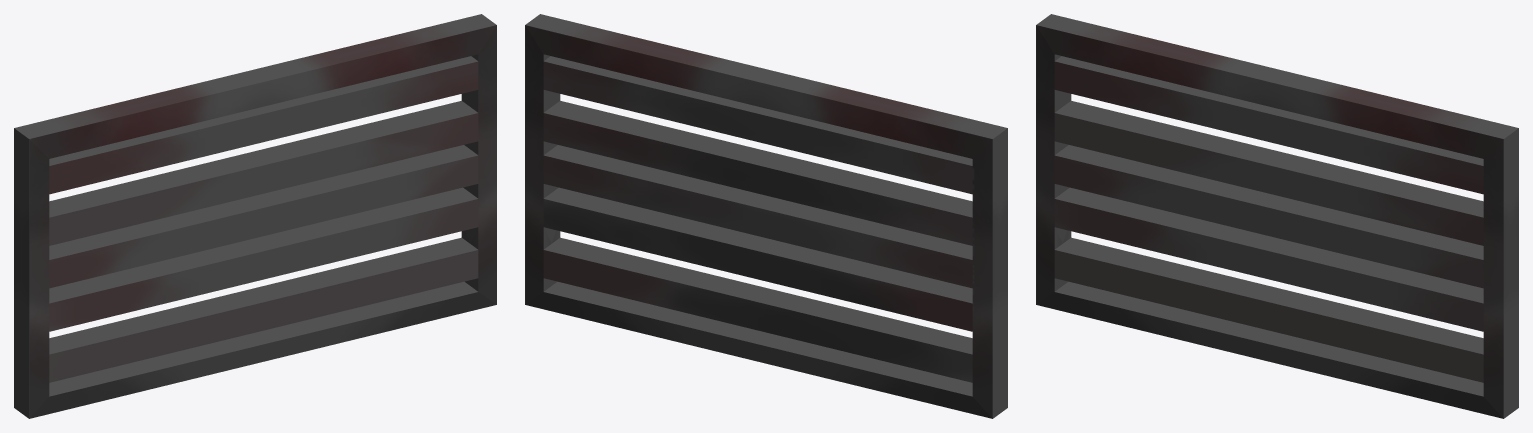
Rendered from Vent.glb.
The picture shows the model from 3 angles, left to right: view 1: azimuth 30°, elevation 25°; view 2: azimuth 150°, elevation 25°; view 3: azimuth 330°, elevation 25°; orthographic projection.
Visible parts, largest first — view 1: Cube; view 2: Cube; view 3: Cube.
Boxes of the visible parts, x1,y1,x2,y2 form: Cube: (14,14,496,418); Cube: (525,14,1007,418); Cube: (1036,14,1518,418).
Bounding box in the file's own units: 1.49 × 0.8541 × 0.0926.
Materials: 1 (1 with a texture image).
